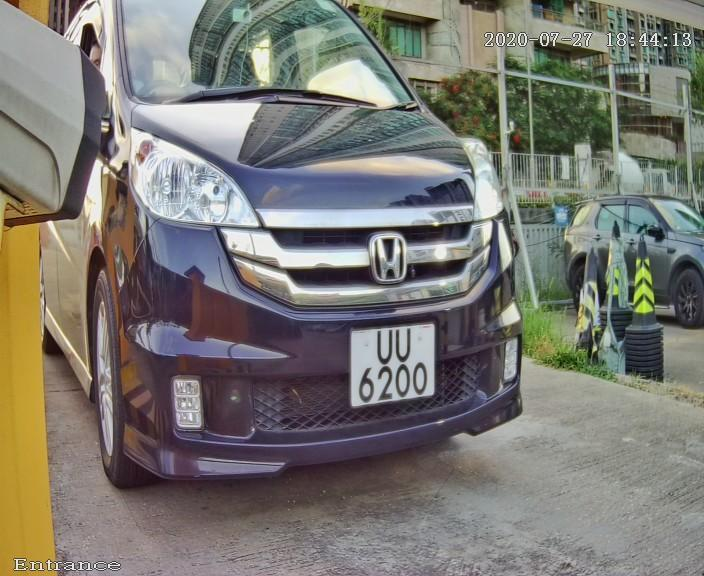privatecar: (41, 11, 579, 517)
